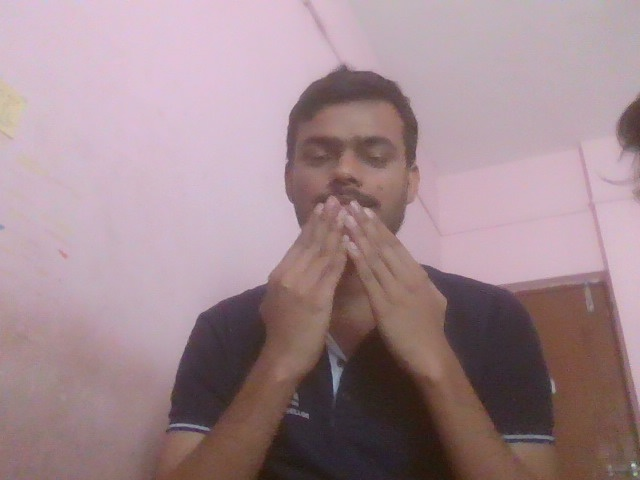ThankYou: (224, 169, 475, 367)
